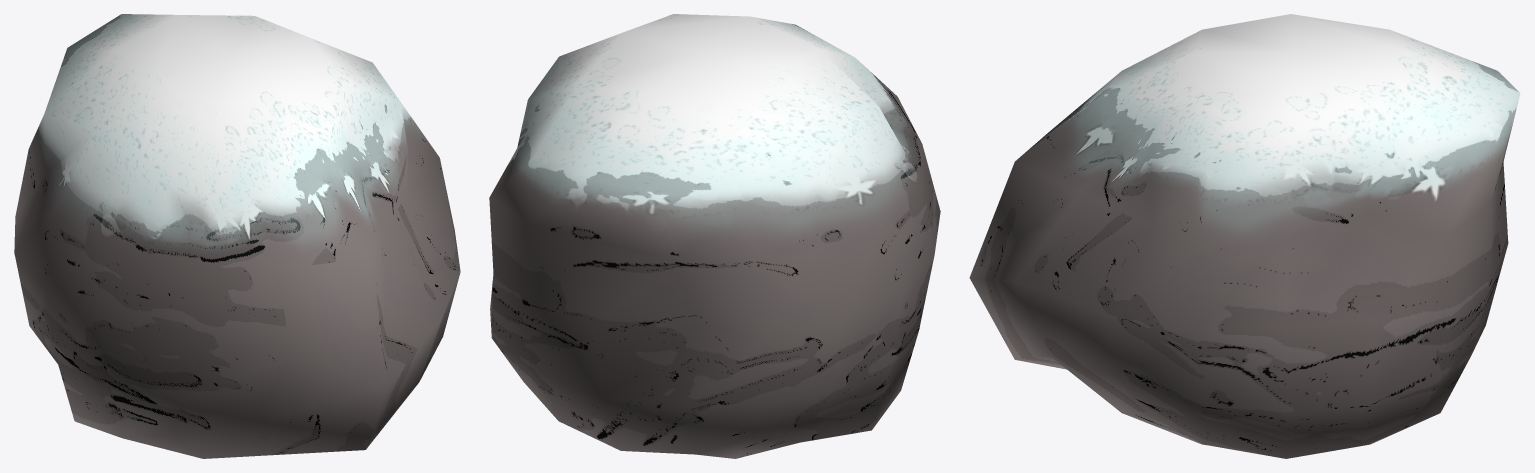
File: boulder.fbx
3 views of the same model, side by side, from view 1: azimuth 30°, elevation 25°; view 2: azimuth 150°, elevation 25°; view 3: azimuth 270°, elevation 25° (orthographic). The views are drawn at different scales.
Visible parts, largest first — view 1: pCube1; view 2: pCube1; view 3: pCube1.
Boxes of the visible parts, bbox=[...] form: pCube1: bbox=[14, 14, 460, 458]; pCube1: bbox=[489, 14, 940, 458]; pCube1: bbox=[969, 14, 1520, 458].
Size of the model in its own units: 84.9 by 78.7 by 107.
